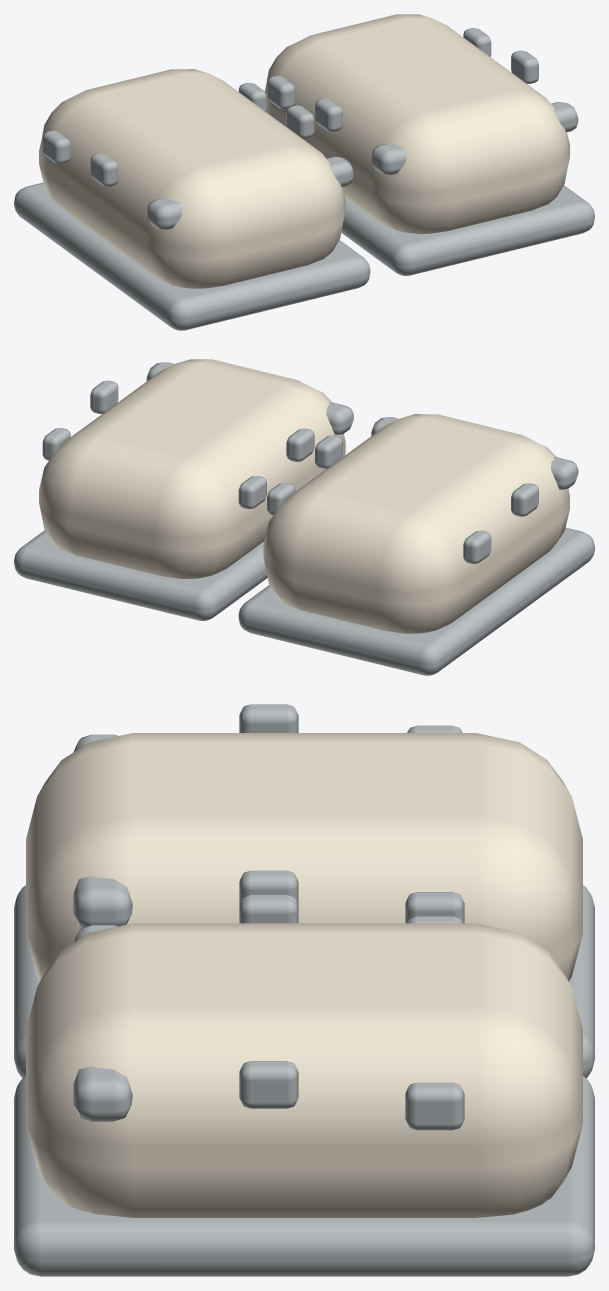
File: dance_shoes.glb
3 renders of one model, top to bottom at view 1: azimuth 30°, elevation 25°; view 2: azimuth 150°, elevation 25°; view 3: azimuth 270°, elevation 25°, orthographic. The views are drawn at different scales.
Visible parts, largest first — view 1: dance_shoes_LegL, dance_shoes_LegR; view 2: dance_shoes_LegL, dance_shoes_LegR; view 3: dance_shoes_LegR, dance_shoes_LegL.
Boxes of the visible parts, x1,y1,x2,y2 form: dance_shoes_LegL: [14, 69, 370, 330]; dance_shoes_LegR: [264, 14, 594, 275]; dance_shoes_LegL: [238, 414, 594, 675]; dance_shoes_LegR: [14, 359, 353, 620]; dance_shoes_LegR: [14, 894, 594, 1276]; dance_shoes_LegL: [14, 704, 594, 1077].
Size of the model in its own units: 0.37 by 0.1075 by 0.245.
